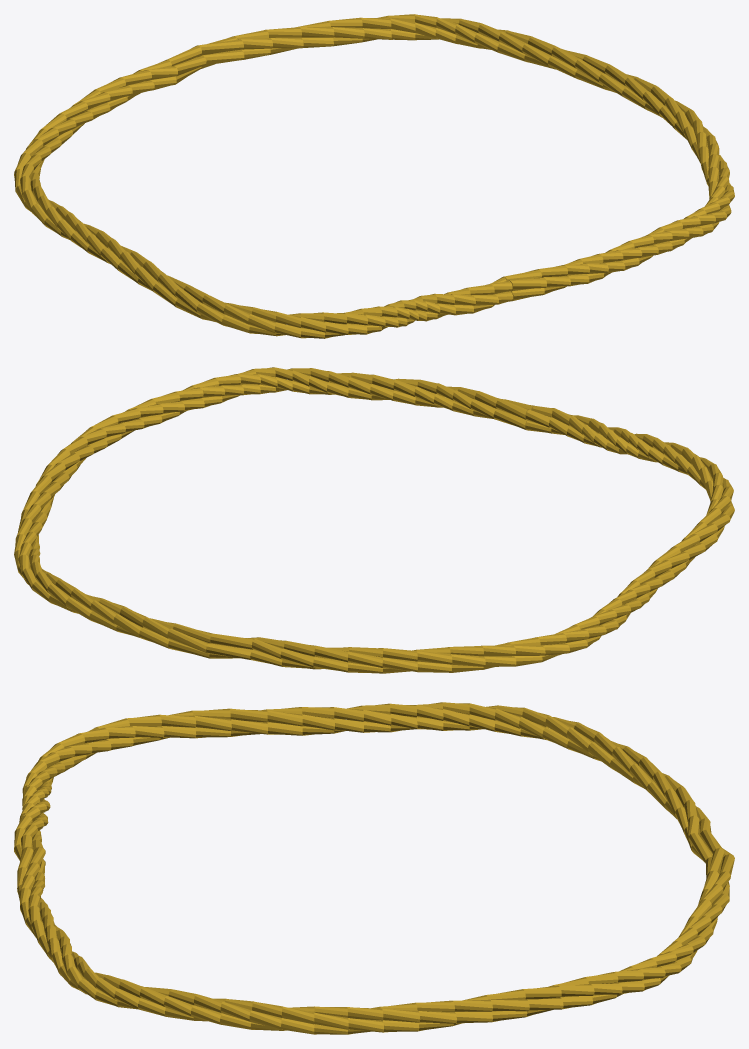
File: Rope_Static.fbx
3 renders of one model, top to bottom at view 1: azimuth 30°, elevation 25°; view 2: azimuth 150°, elevation 25°; view 3: azimuth 270°, elevation 25°, orthographic. The views are drawn at different scales.
Parts seen in each view (by area): view 1: Rope; view 2: Rope; view 3: Rope.
Part boxes in pixels (x1=…): Rope: x1=14, y1=14, x2=734, y2=338; Rope: x1=14, y1=367, x2=734, y2=673; Rope: x1=14, y1=702, x2=734, y2=1034.
Bounding box in the file's own units: 123 × 4.78 × 119.
Materials: 1 (1 with a texture image).
